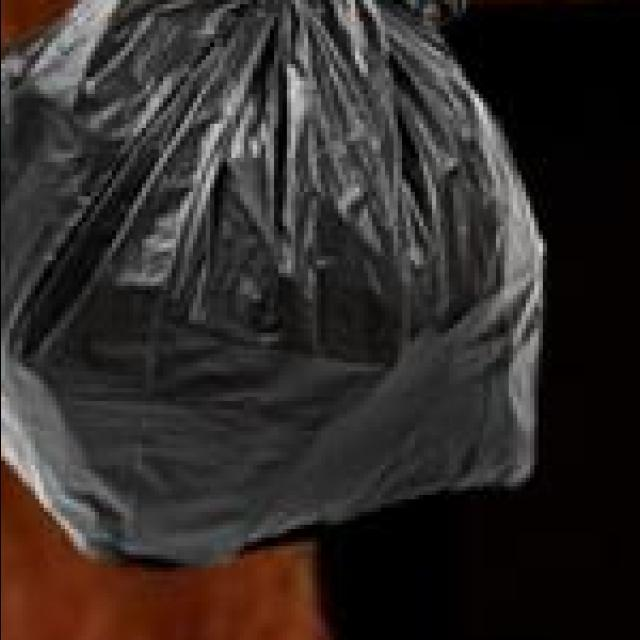Trashbag: (0, 0, 575, 580)
